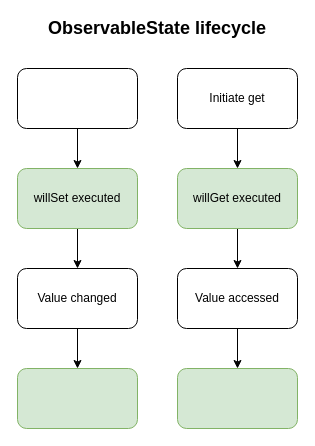
Image size: 315x446. Some labels were removed from this diagram. The shapes that lost their labels are listed below. From the top down, each one's box as (x1, y1, x2, y2) in pixels, then its label:
(16, 68, 138, 128): Initiate set
(16, 368, 138, 428): didSet executed
(176, 368, 298, 428): didGet executed
